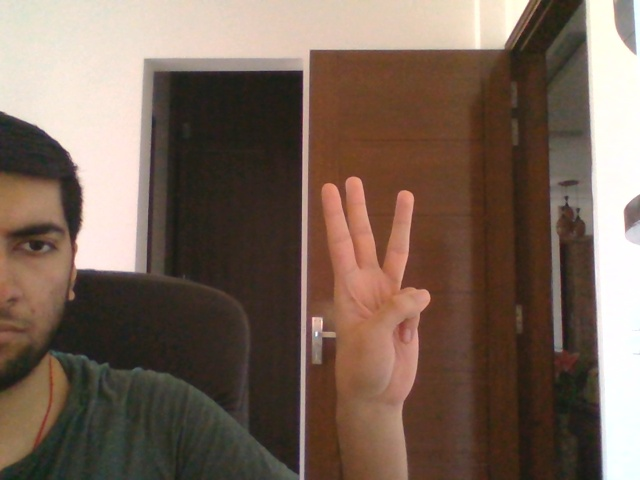LetterW: (318, 174, 433, 411)
